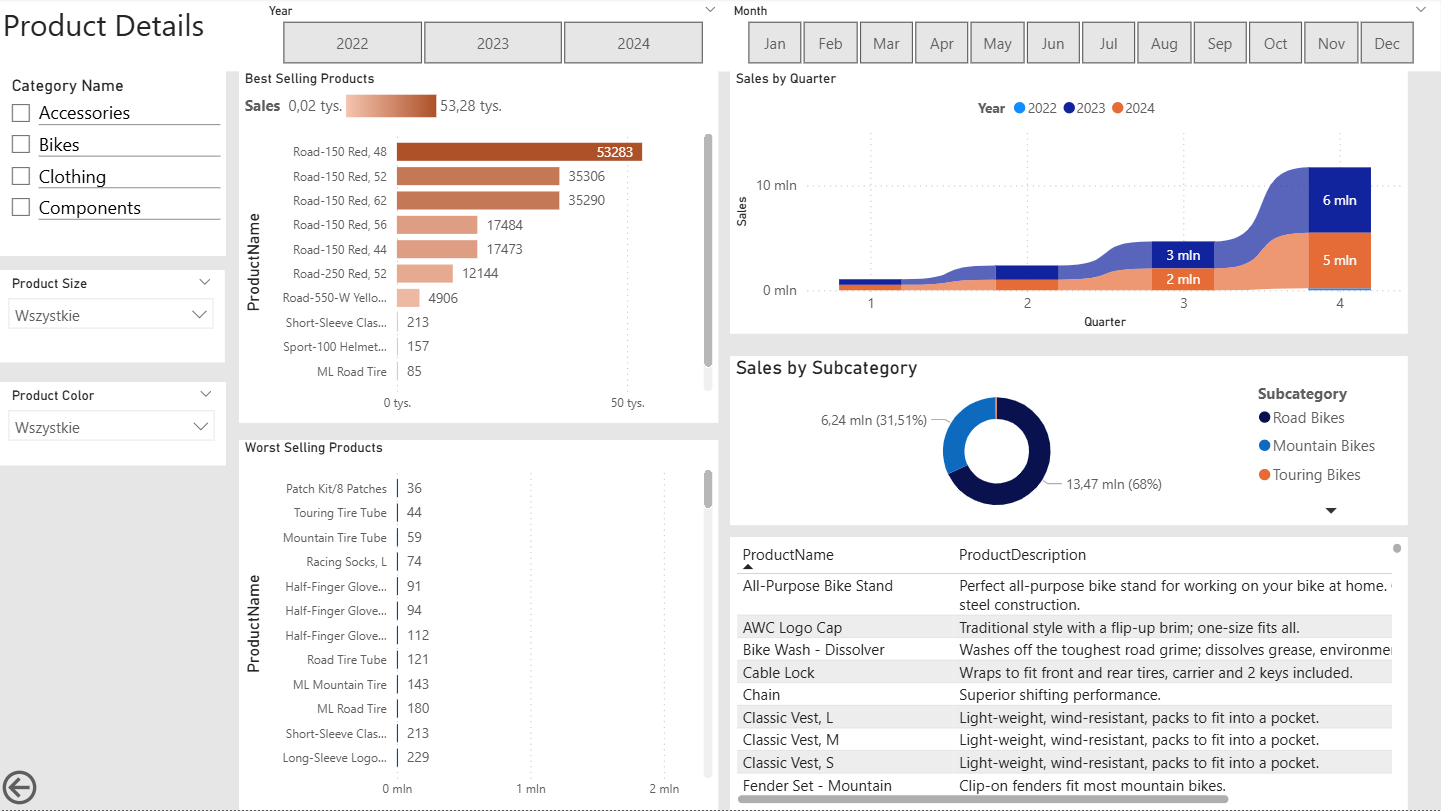

This screenshot's page, from the dashboard's own definition file:
{"tool":"powerbi","page":{"name":"Product Details","canvas":[1280,720],"ordinal":2},"visuals":[{"type":"textbox","box":[0,0,234.1,64.7],"z":0},{"type":"slicer","fields":{"Values":["DIM_Calendar.Year"]},"box":[227.6,0,422.1,65.2],"z":1000},{"type":"slicer","fields":{"Values":["DIM_Calendar.MonthShort"]},"box":[640,0,640,65.2],"z":2000},{"type":"slicer","fields":{"Values":["DIM_Products.ProductColor"]},"box":[0,340.4,203.3,73.9],"z":3000},{"type":"slicer","fields":{"Values":["DIM_Products.ProductSize"]},"box":[0,241.2,202.3,81.7],"z":4000},{"type":"barChart","title":"Best Selling Products","fields":{"Y":["FACT_InternetSales.Sales"],"Category":["DIM_Products.ProductName"]},"box":[215,65.2,425,312.2],"z":5000},{"type":"tableEx","fields":{"Values":["DIM_Products.ProductName","DIM_Products.ProductDescription"]},"box":[649.7,477.6,601.1,242.2],"z":6000},{"type":"actionButton","box":[0,679.9,100.2,39.9],"z":7000},{"type":"ribbonChart","title":"Sales by Quarter","fields":{"Series":["DIM_Calendar.Year"],"Y":["FACT_InternetSales.Sales"],"Category":["DIM_Calendar.Quarter"]},"box":[649.7,65.2,601.1,233.4],"z":8000},{"type":"slicer","fields":{"Values":["DIM_Products.CategoryName"]},"box":[0,65.2,203.3,164.4],"z":9000},{"type":"barChart","title":"Worst Selling Products","fields":{"Y":["FACT_InternetSales.Sales"],"Category":["DIM_Products.ProductName"]},"box":[215,392,425,327.8],"z":9001},{"type":"donutChart","title":"Sales by Subcategory","fields":{"Category":["DIM_Products.SubcategoryName"],"Y":["FACT_InternetSales.Sales"]},"box":[649.7,317.1,601.1,149.8],"z":9002}]}

Visuals, with their boxes in screenshot pixels (x1, y1, x2, y2), scaled from the page's 1280x720 canvas onto the 1441x811 screenshot:
textbox: l=0, t=0, r=264, b=73
slicer - DIM_Calendar.Year: l=256, t=0, r=731, b=73
slicer - DIM_Calendar.MonthShort: l=720, t=0, r=1440, b=73
slicer - DIM_Products.ProductColor: l=0, t=383, r=229, b=467
slicer - DIM_Products.ProductSize: l=0, t=272, r=228, b=364
"Best Selling Products" barChart: l=242, t=73, r=720, b=425
tableEx - DIM_Products.ProductName x DIM_Products.ProductDescription: l=731, t=538, r=1408, b=810
actionButton: l=0, t=766, r=113, b=810
"Sales by Quarter" ribbonChart: l=731, t=73, r=1408, b=336
slicer - DIM_Products.CategoryName: l=0, t=73, r=229, b=259
"Worst Selling Products" barChart: l=242, t=442, r=720, b=810
"Sales by Subcategory" donutChart: l=731, t=357, r=1408, b=526
